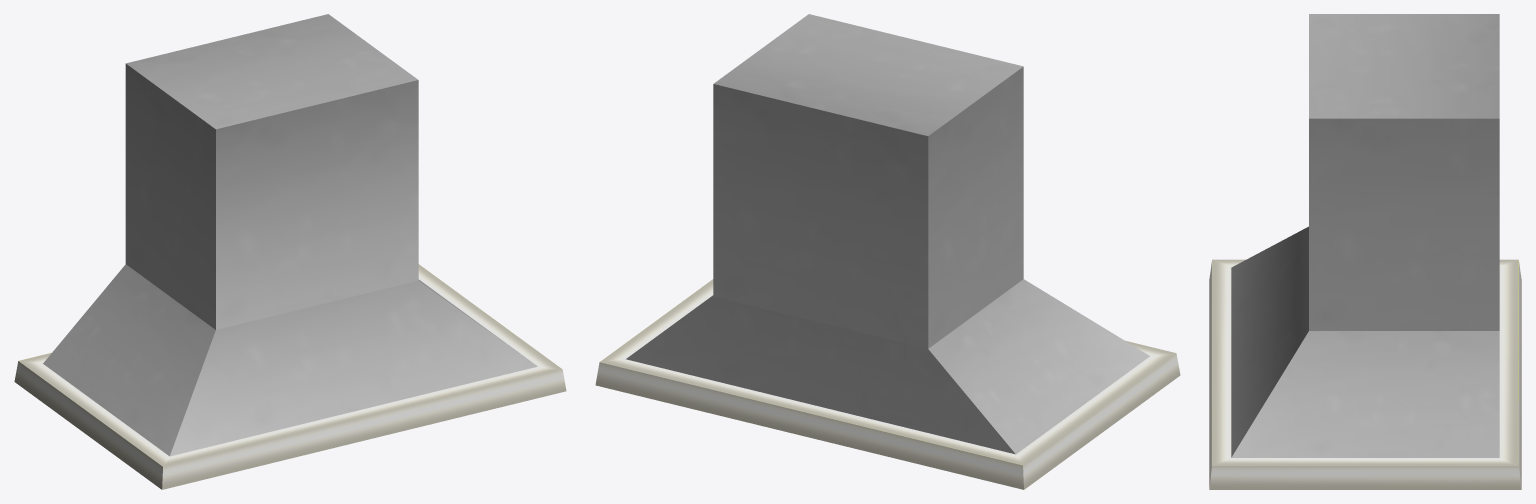
The model's file is RangeHood.fbx.
The picture shows the model from 3 angles, left to right: view 1: azimuth 30°, elevation 25°; view 2: azimuth 150°, elevation 25°; view 3: azimuth 270°, elevation 25°; orthographic projection. The views are drawn at different scales.
Visible parts, largest first — view 1: Maya_File_Assets:TexturedAssetsCurrent:QuentonAssets02:Range; view 2: Maya_File_Assets:TexturedAssetsCurrent:QuentonAssets02:Range; view 3: Maya_File_Assets:TexturedAssetsCurrent:QuentonAssets02:Range.
Boxes of the visible parts, x1,y1,x2,y2 form: Maya_File_Assets:TexturedAssetsCurrent:QuentonAssets02:Range: (14,14,566,489); Maya_File_Assets:TexturedAssetsCurrent:QuentonAssets02:Range: (595,14,1180,489); Maya_File_Assets:TexturedAssetsCurrent:QuentonAssets02:Range: (1209,14,1521,489).
Size of the model in its own units: 1.86 by 1.33 by 1.18.
